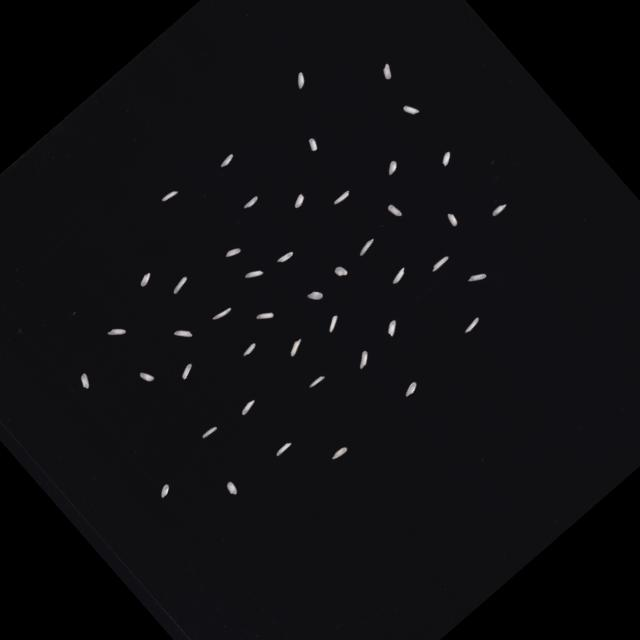Chalky: (168, 275, 190, 295), (255, 306, 276, 326), (244, 266, 265, 286), (106, 322, 126, 342), (468, 268, 488, 288), (174, 324, 194, 344), (212, 304, 232, 324), (389, 266, 409, 286), (354, 350, 374, 370), (357, 237, 378, 256), (286, 338, 306, 357), (178, 363, 198, 382), (462, 318, 482, 336), (239, 398, 258, 416), (323, 314, 342, 332), (432, 254, 451, 272), (274, 440, 293, 458), (306, 287, 324, 305), (378, 64, 396, 82), (382, 320, 400, 338), (138, 368, 156, 386), (290, 192, 308, 210), (402, 101, 420, 119), (438, 150, 456, 168), (292, 71, 310, 89), (334, 190, 352, 207), (162, 188, 180, 205), (224, 480, 241, 497), (158, 482, 175, 499), (224, 245, 241, 262), (383, 160, 400, 177), (403, 380, 420, 397), (78, 372, 94, 390), (200, 424, 218, 440), (276, 250, 294, 266), (218, 153, 236, 169), (388, 202, 404, 220), (331, 445, 348, 461), (491, 202, 508, 218), (243, 194, 260, 210), (137, 272, 154, 288), (241, 342, 258, 358), (305, 137, 321, 153), (445, 210, 460, 227), (308, 374, 326, 388), (334, 264, 349, 280)
